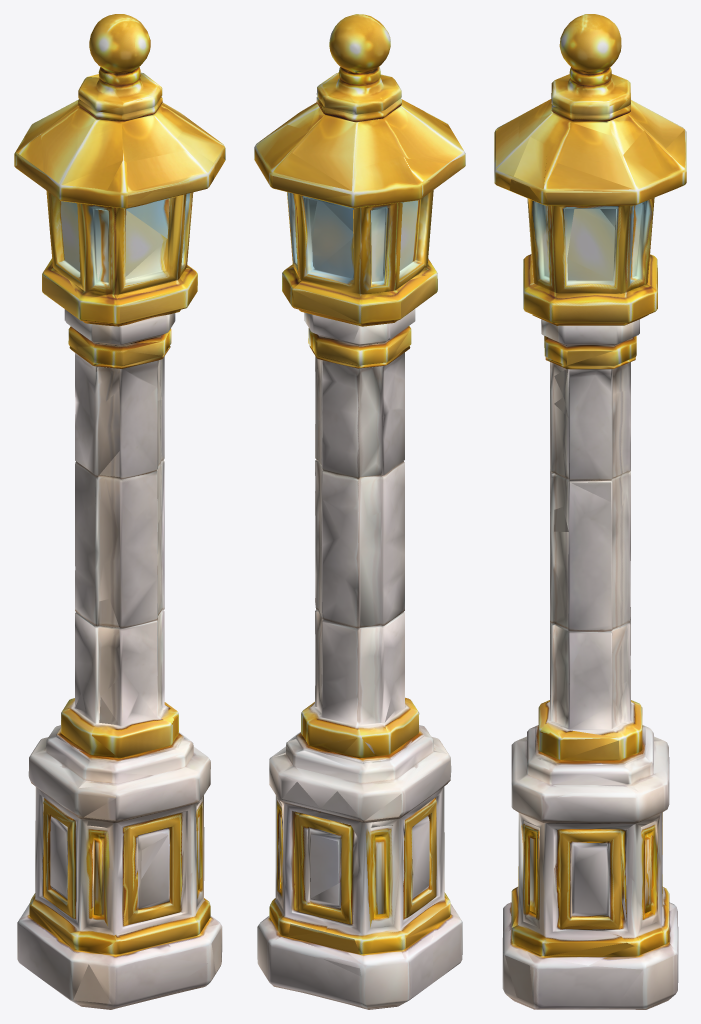
Rendered from HaloPart_GateLantern_HD_LOD.glb.
The picture shows the model from 3 angles, left to right: view 1: azimuth 30°, elevation 25°; view 2: azimuth 150°, elevation 25°; view 3: azimuth 270°, elevation 25°; orthographic projection.
Parts seen in each view (by area): view 1: tripo_node_4f749187-45a4-4d0e-a730-bf604a105ea3; view 2: tripo_node_4f749187-45a4-4d0e-a730-bf604a105ea3; view 3: tripo_node_4f749187-45a4-4d0e-a730-bf604a105ea3.
Boxes of the visible parts, left/top/right/bottom form: tripo_node_4f749187-45a4-4d0e-a730-bf604a105ea3: left=14, top=14, right=225, bottom=1009; tripo_node_4f749187-45a4-4d0e-a730-bf604a105ea3: left=254, top=14, right=465, bottom=1009; tripo_node_4f749187-45a4-4d0e-a730-bf604a105ea3: left=494, top=14, right=686, bottom=1009.
Bounding box in the file's own units: 0.1784 × 0.9768 × 0.1771.
Materials: 1 (1 with a texture image).
